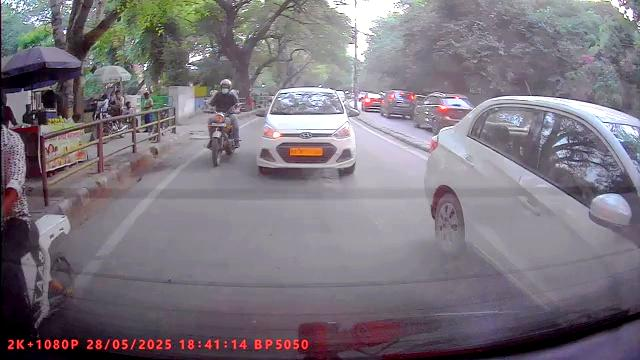motorcycle_with_helmet: (204, 77, 243, 168)
